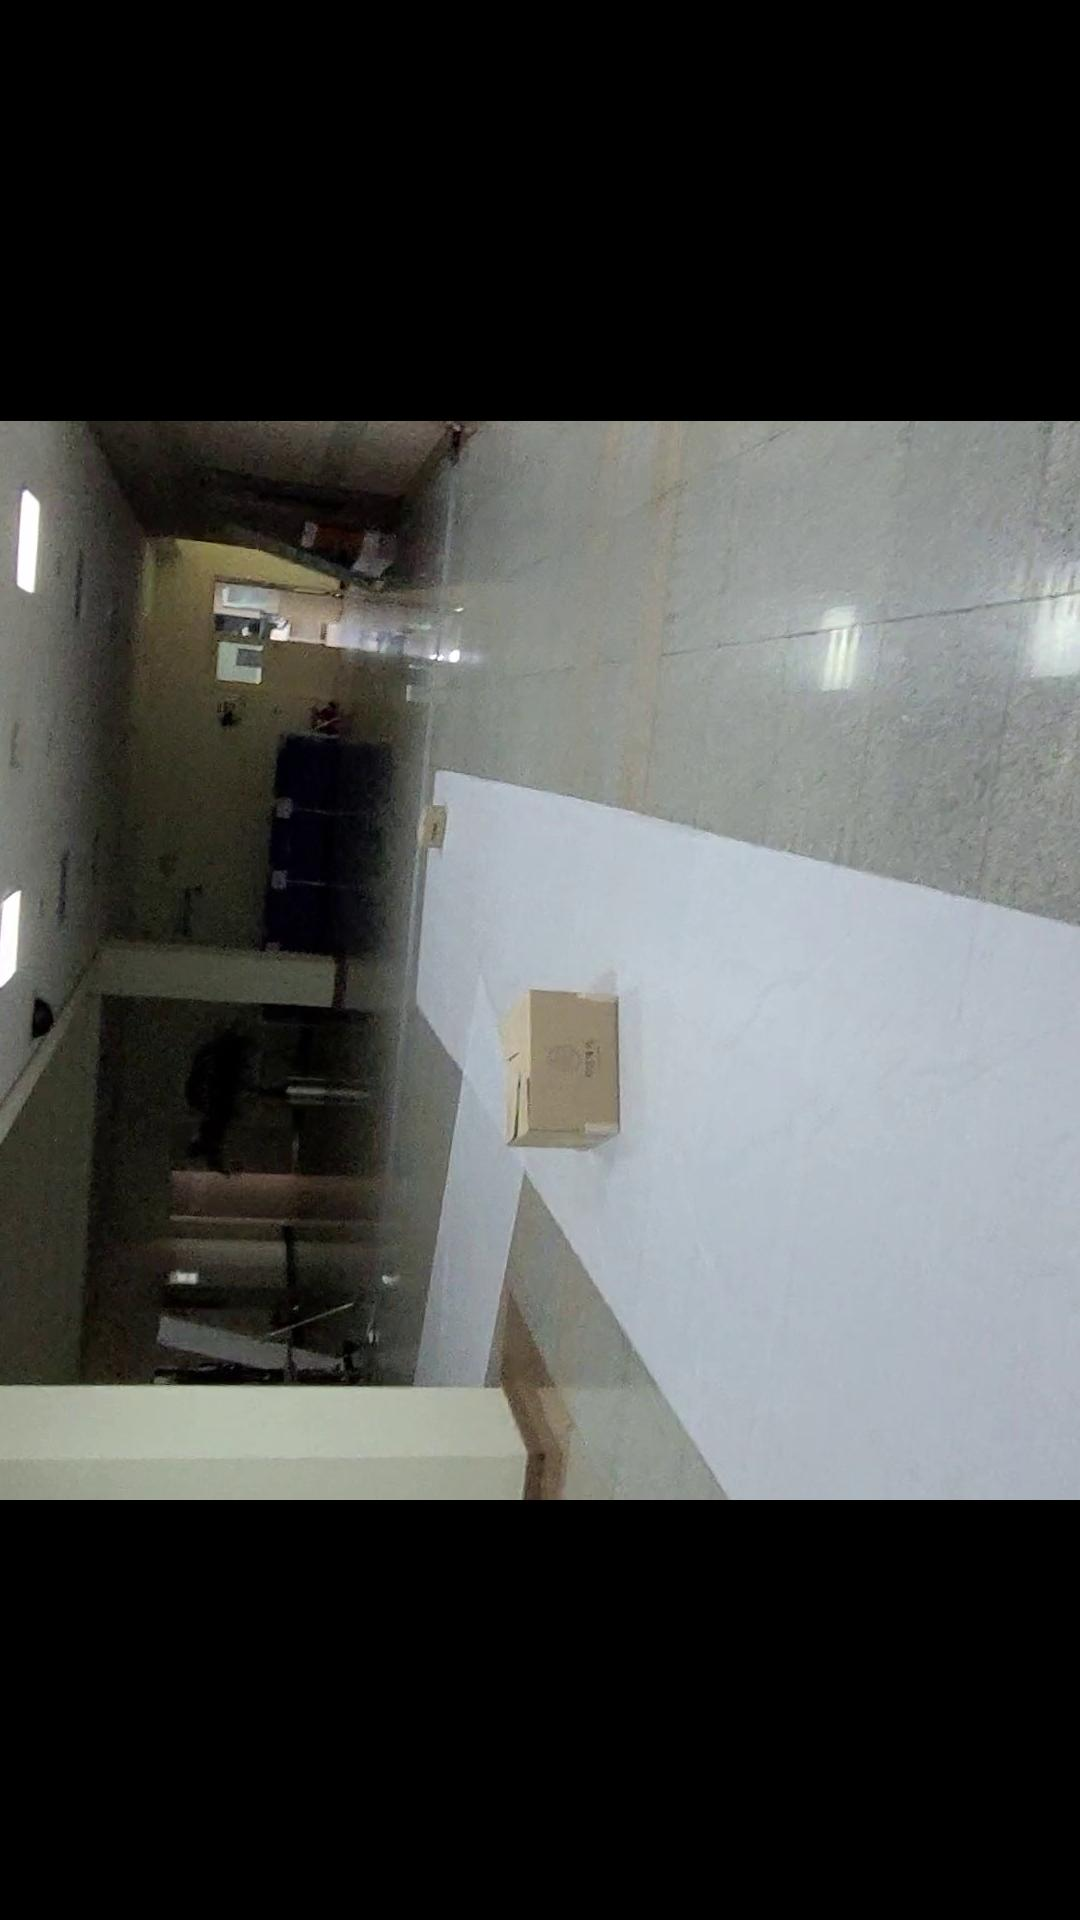Box: (491, 955, 645, 1168), (405, 778, 460, 866)
